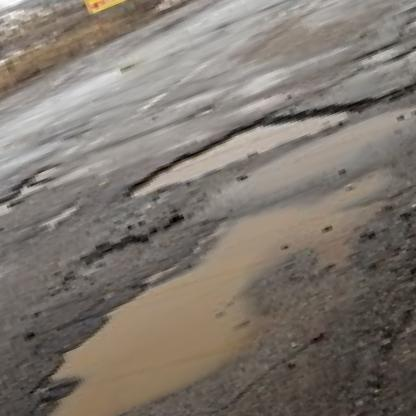pothole: (118, 79, 369, 207), (0, 168, 58, 232), (393, 22, 416, 67), (33, 161, 60, 179)
